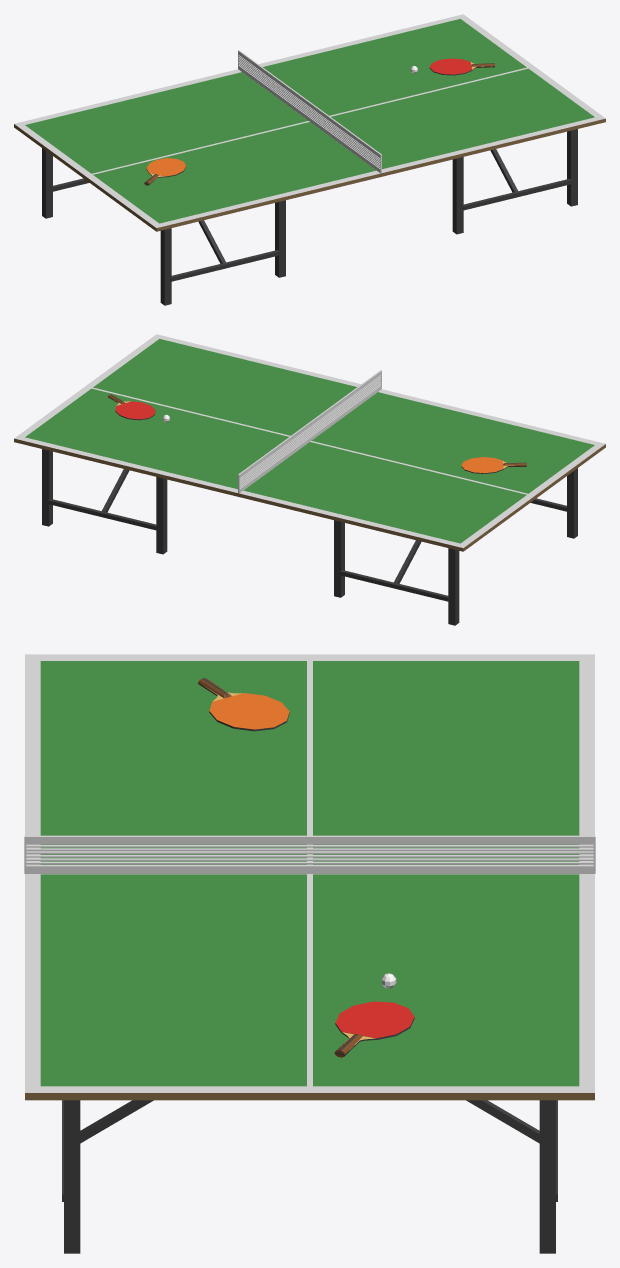
Rendered from low_poly_ping_pong_table.glb.
3 views of the same model, one above another, from view 1: azimuth 30°, elevation 25°; view 2: azimuth 150°, elevation 25°; view 3: azimuth 270°, elevation 25° (orthographic). The views are drawn at different scales.
Parts seen in each view (by area): view 1: PingPongTable, paddle_red, paddle_orange; view 2: PingPongTable, paddle_orange, paddle_red; view 3: PingPongTable, paddle_orange, paddle_red.
Boxes of the visible parts, x1,y1,x2,y2 form: PingPongTable: (14, 14, 605, 305); paddle_red: (429, 58, 494, 75); paddle_orange: (144, 158, 186, 185); PingPongTable: (14, 334, 605, 625); paddle_orange: (461, 457, 526, 473); paddle_red: (108, 394, 155, 420); PingPongTable: (24, 654, 595, 1253); paddle_orange: (198, 678, 289, 731); paddle_red: (334, 1001, 414, 1057).
Size of the model in its own units: 1303 by 299 by 717.
